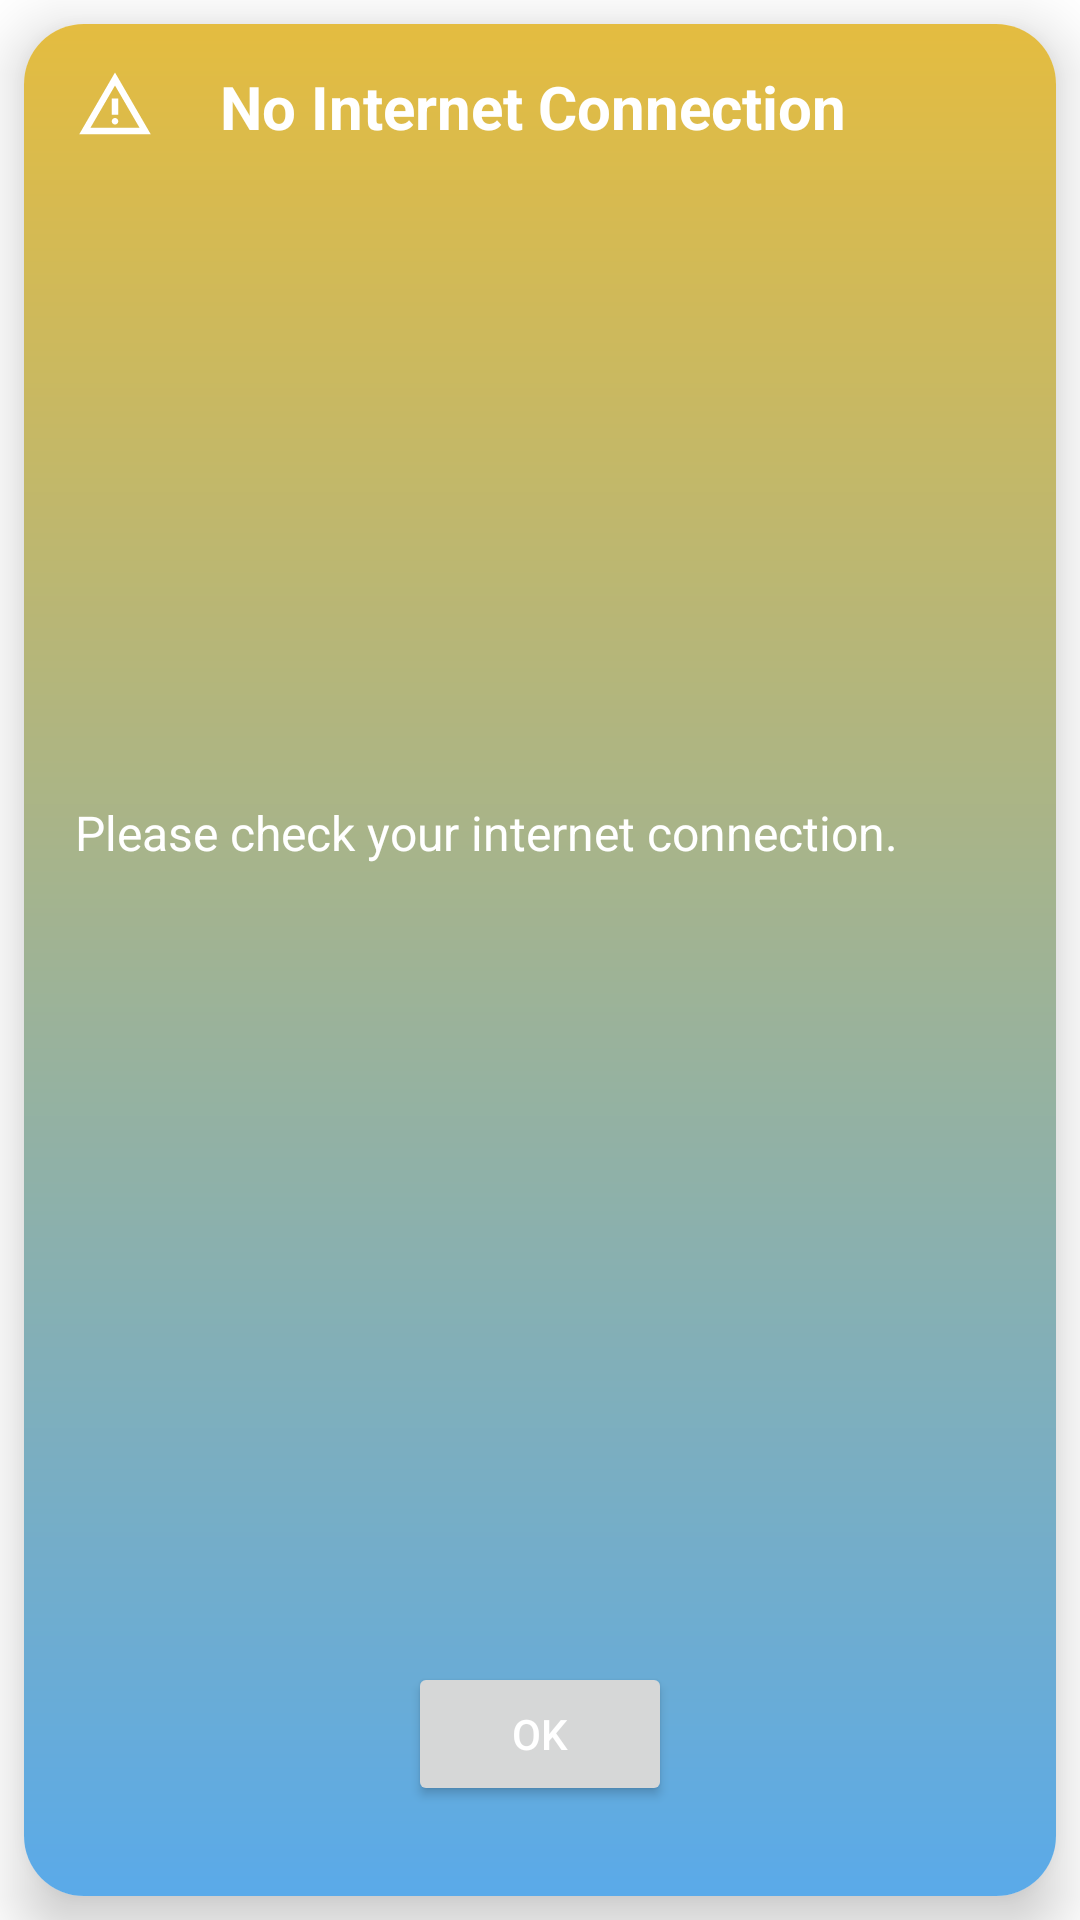

Named icons in this screenshot (1080px×1920px) and their bounding boxes, (x1, y1, x2, y2):
warning: (79, 73, 151, 135)
